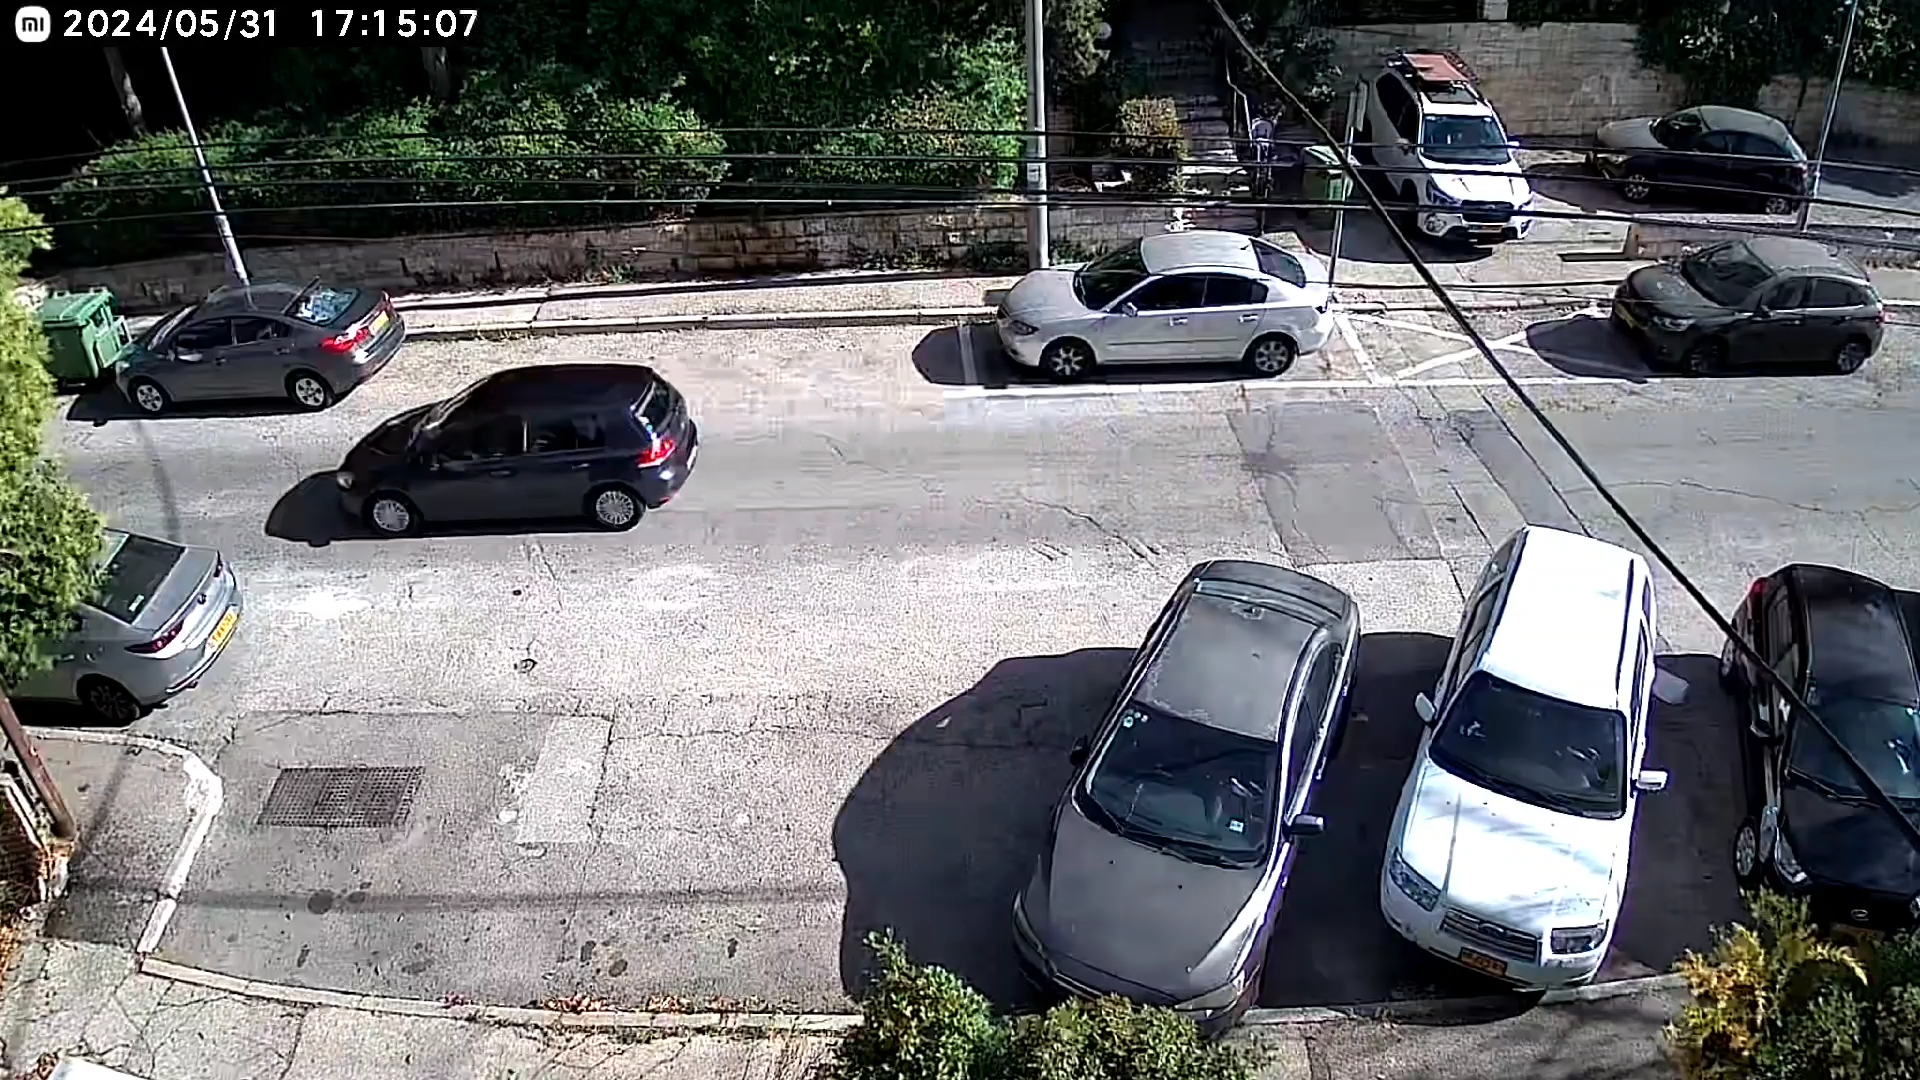moving car: (332, 363, 700, 543)
